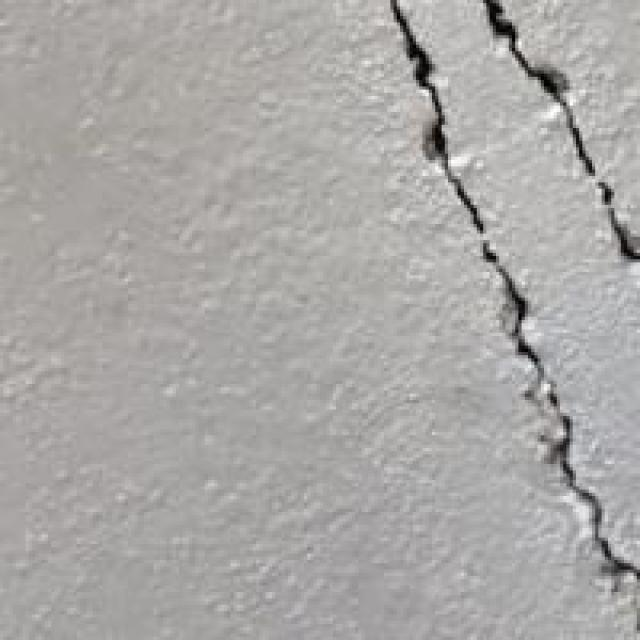crack: (374, 0, 637, 634)
